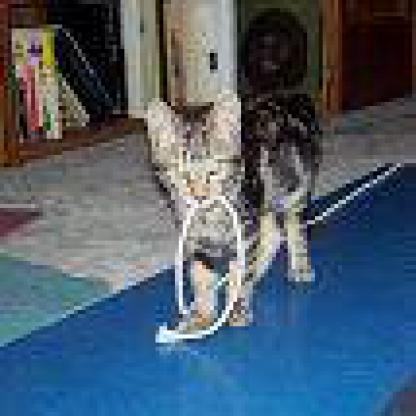cat: (140, 73, 329, 323)
